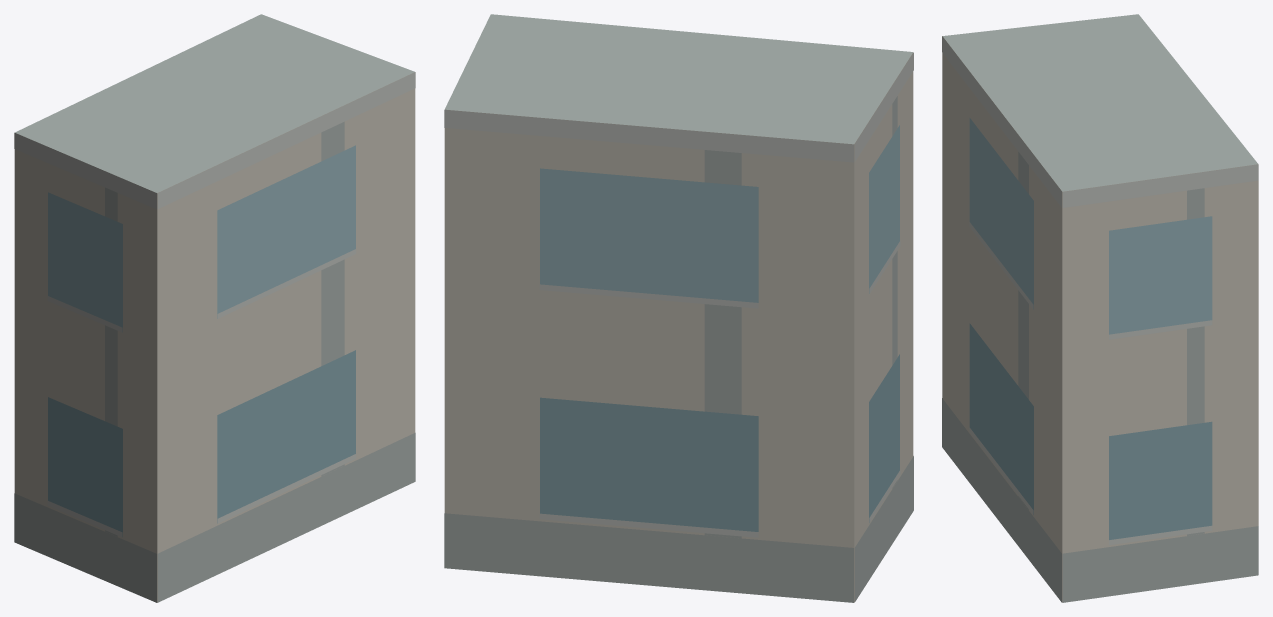
The model's file is survey-upis-32634744.glb.
The picture shows the model from 3 angles, left to right: view 1: azimuth 30°, elevation 25°; view 2: azimuth 150°, elevation 25°; view 3: azimuth 270°, elevation 25°; orthographic projection. The views are drawn at different scales.
Visible parts, largest first — view 1: survey-upis-32634744.tmp; view 2: survey-upis-32634744.tmp; view 3: survey-upis-32634744.tmp.
Boxes of the visible parts, x1,y1,x2,y2 form: survey-upis-32634744.tmp: [14, 14, 415, 602]; survey-upis-32634744.tmp: [444, 14, 913, 602]; survey-upis-32634744.tmp: [942, 14, 1258, 602].
Size of the model in its own units: 5.66 by 6.1 by 4.26.
